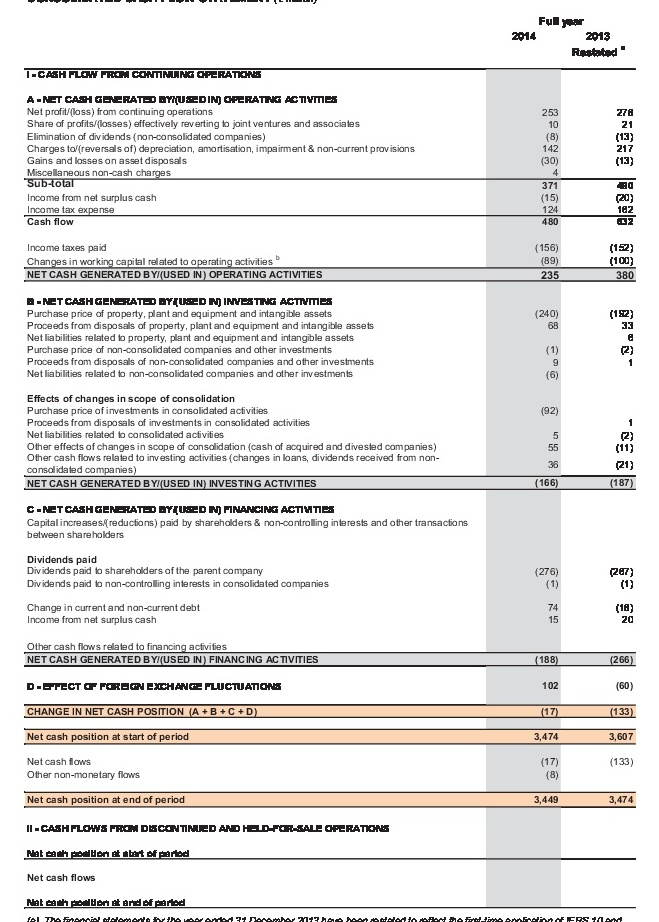table: (0, 0, 659, 922)
